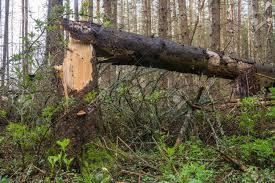Downstairs: (62, 17, 275, 91)
